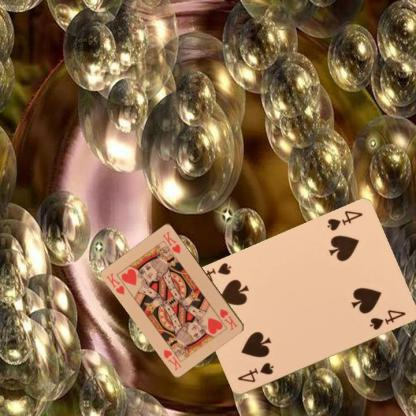4s: (324, 208, 364, 233), (235, 360, 275, 384)
Kh: (103, 270, 126, 296), (217, 306, 239, 332)
